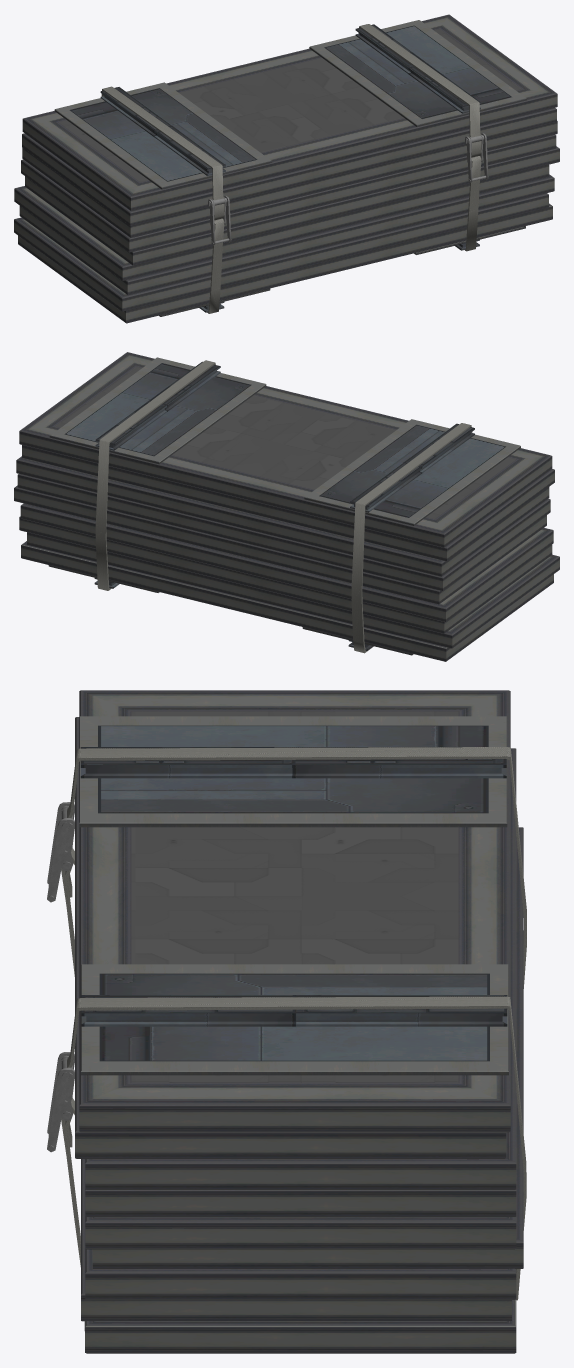
The model's file is construction_plates_bundle_render.fbx.
3 renders of one model, top to bottom at view 1: azimuth 30°, elevation 25°; view 2: azimuth 150°, elevation 25°; view 3: azimuth 270°, elevation 25°, orthographic. The views are drawn at different scales.
Parts seen in each view (by area): view 1: default:default; view 2: default:default; view 3: default:default.
Part boxes in pixels (box(x1,y1,x2,y2)): default:default: box(14, 14, 559, 323); default:default: box(14, 352, 559, 661); default:default: box(47, 690, 526, 1353).
Bounding box in the file's own units: 92.38 × 194 × 62.62.
